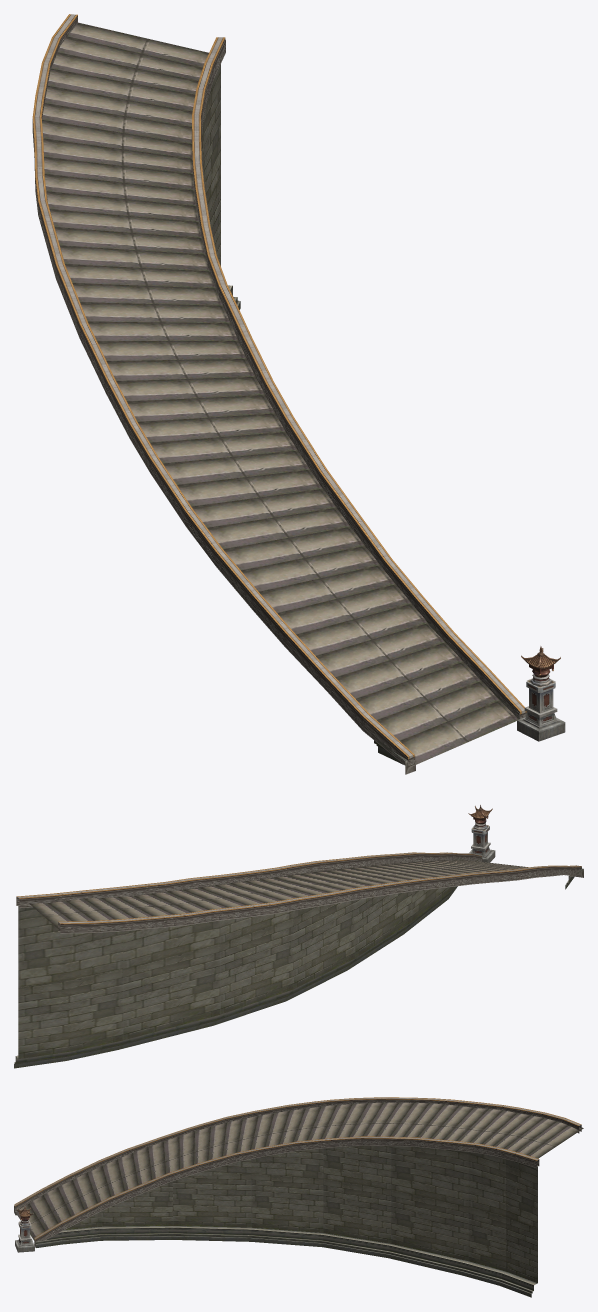
File: ZC_001Jlouti.FBX
The picture shows the model from 3 angles, top to bottom: view 1: azimuth 30°, elevation 25°; view 2: azimuth 150°, elevation 25°; view 3: azimuth 270°, elevation 25°; orthographic projection. The views are drawn at different scales.
Visible parts, largest first — view 1: ZC_001Jlouti01, ZC_001Jlouti_shideng; view 2: ZC_001Jlouti01, ZC_001Jlouti_shideng; view 3: ZC_001Jlouti01, ZC_001Jlouti_shideng.
Part boxes in pixels (bbox=[...]): ZC_001Jlouti01: bbox=[32, 14, 527, 774]; ZC_001Jlouti_shideng: bbox=[517, 646, 565, 741]; ZC_001Jlouti01: bbox=[14, 852, 583, 1068]; ZC_001Jlouti_shideng: bbox=[468, 805, 495, 862]; ZC_001Jlouti01: bbox=[14, 1097, 583, 1297]; ZC_001Jlouti_shideng: bbox=[15, 1206, 34, 1252].
Size of the model in its own units: 22.69 by 15.74 by 56.26.
